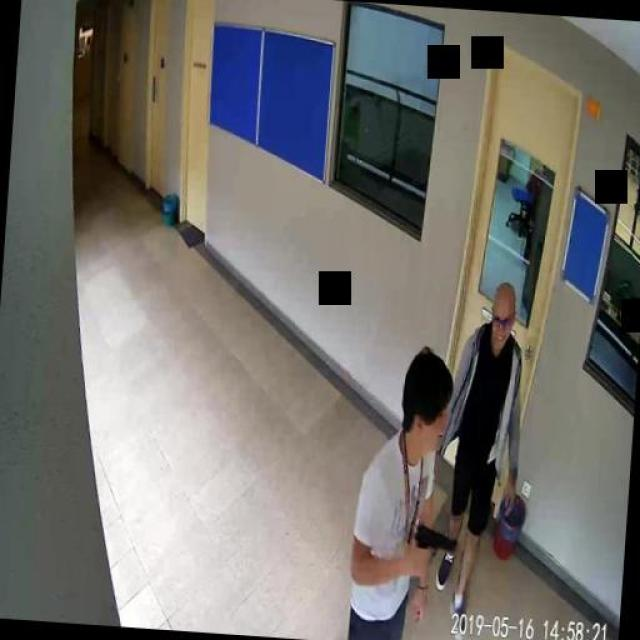gun: (412, 522, 456, 576)
